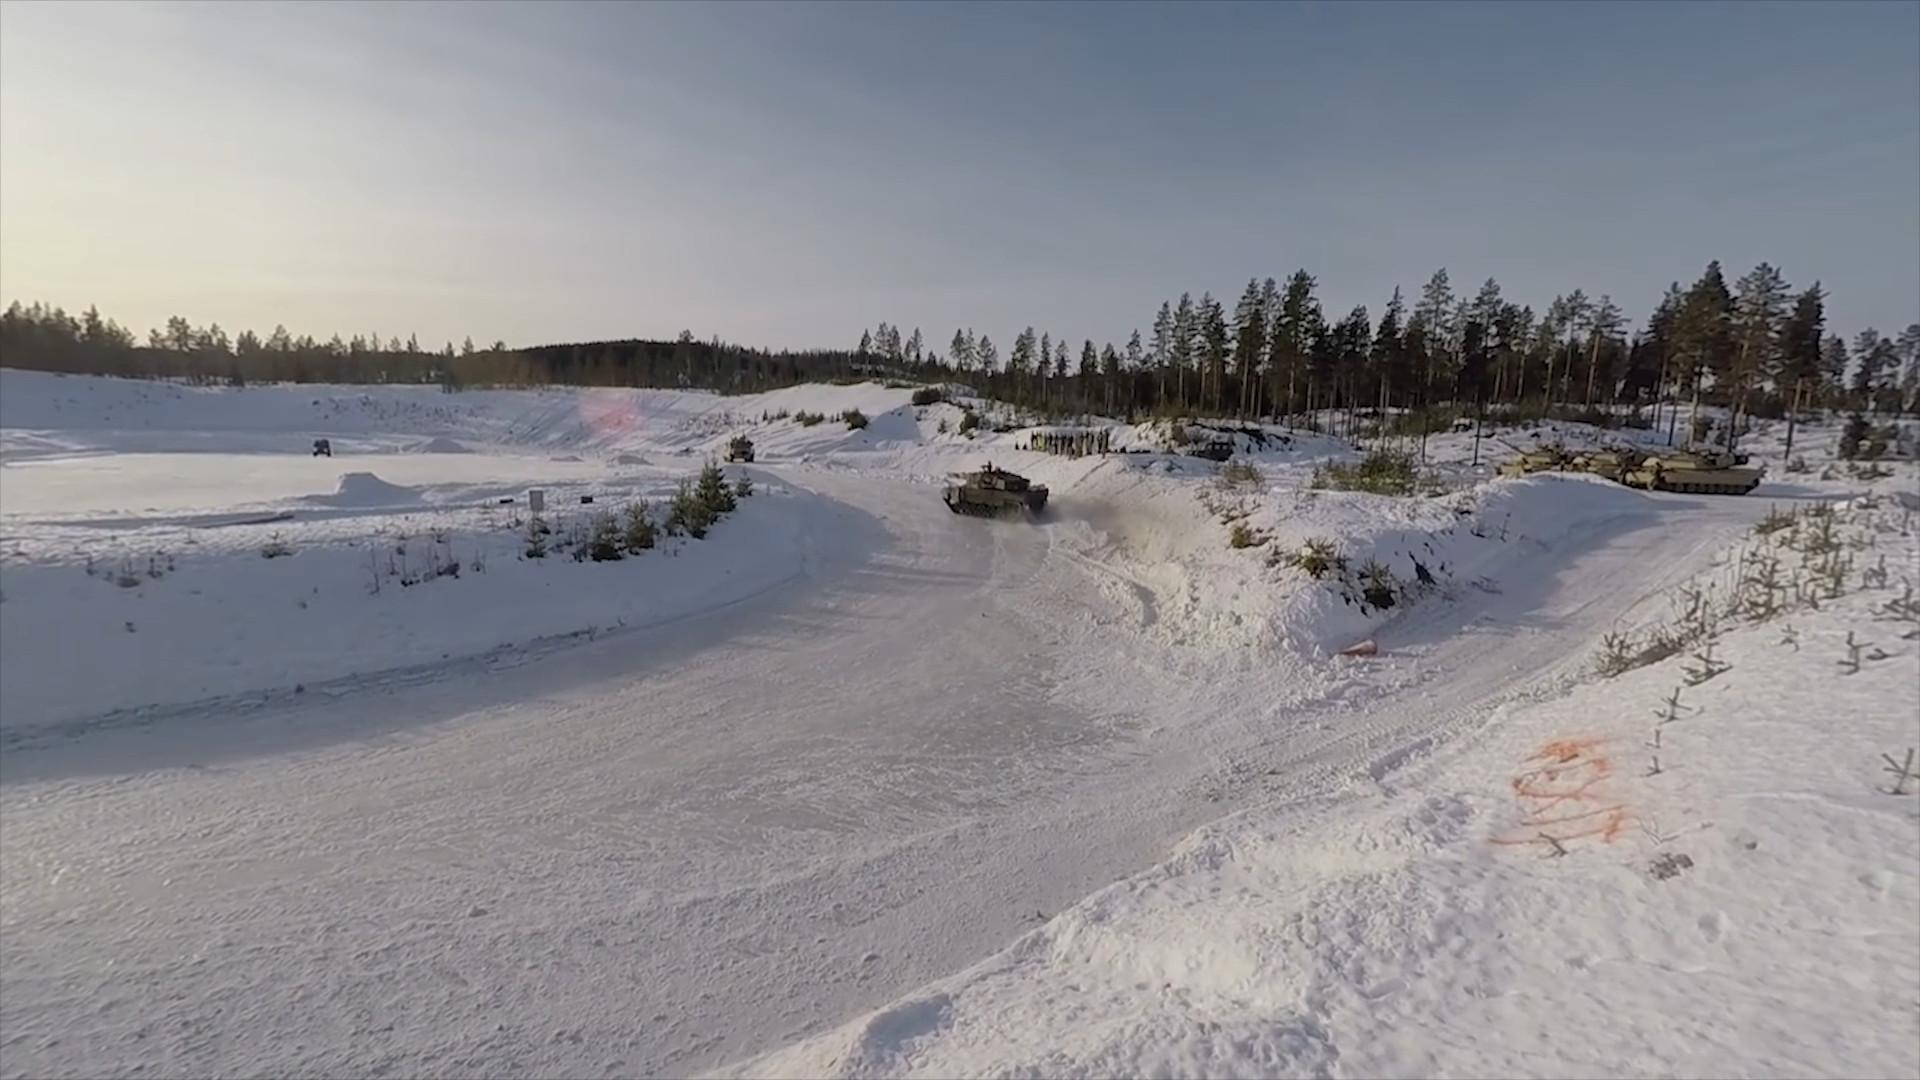tank: (940, 467, 1050, 521)
